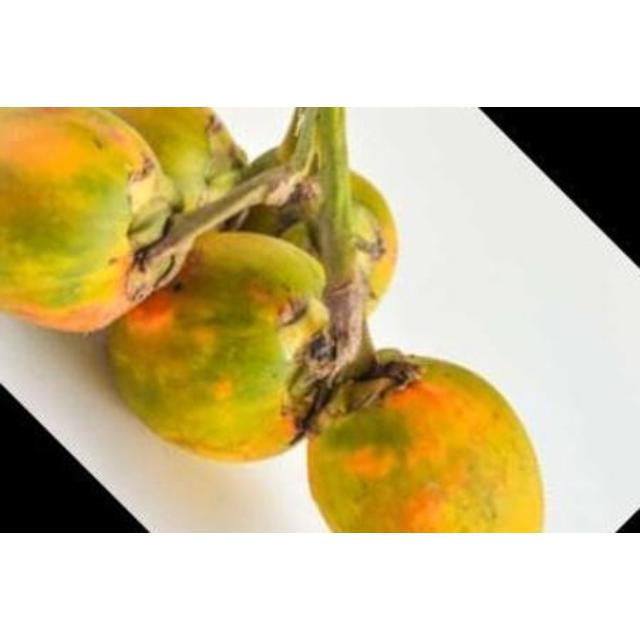good: (0, 107, 329, 336), (104, 232, 374, 465), (307, 359, 545, 532)
